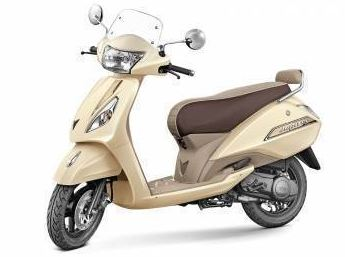bike: (46, 4, 323, 257)
